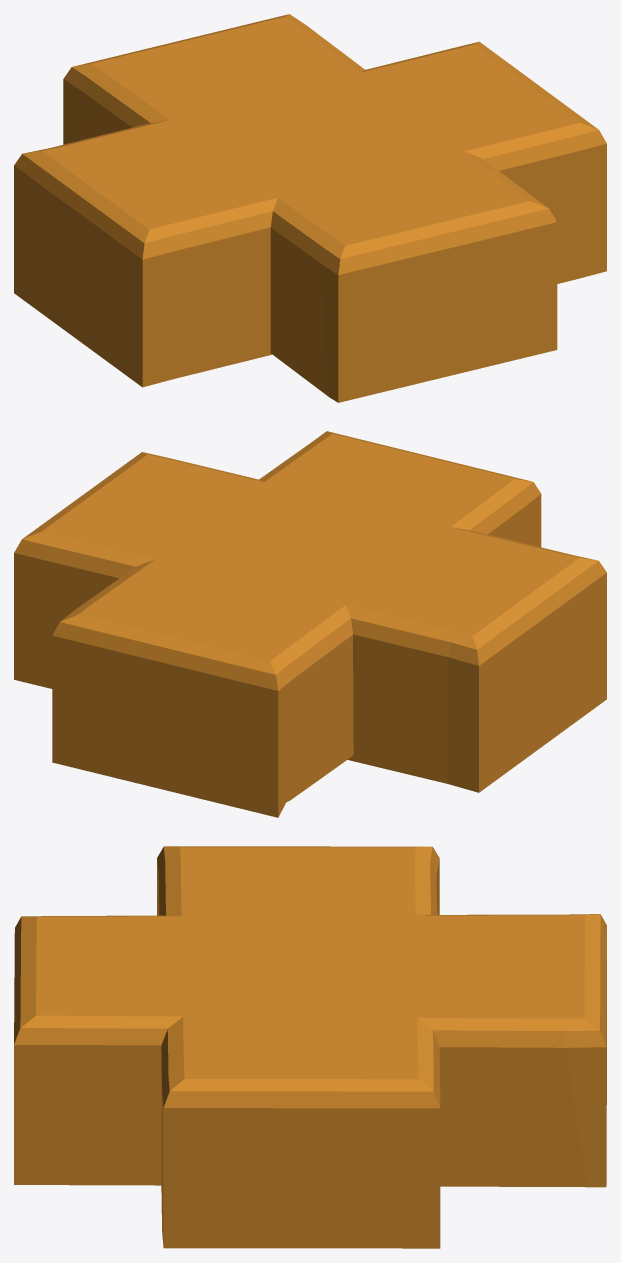
The model's file is Railway_Cross.fbx.
3 views of the same model, one above another, from view 1: azimuth 30°, elevation 25°; view 2: azimuth 150°, elevation 25°; view 3: azimuth 270°, elevation 25° (orthographic). The views are drawn at different scales.
Parts seen in each view (by area): view 1: cross.001; view 2: cross.001; view 3: cross.001.
Boxes of the visible parts, x1,y1,x2,y2 form: cross.001: (14, 14, 606, 402); cross.001: (14, 431, 606, 817); cross.001: (14, 846, 606, 1248).
Bounding box in the file's own units: 325 × 96.69 × 325.
